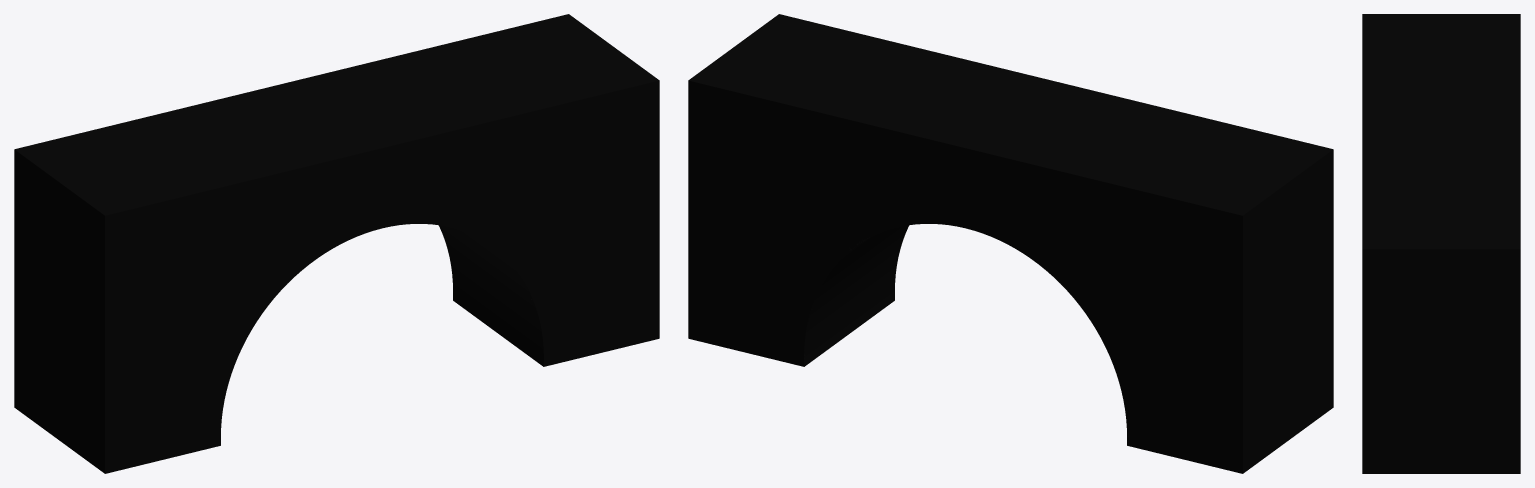
File: Arc2.fbx
The picture shows the model from 3 angles, left to right: view 1: azimuth 30°, elevation 25°; view 2: azimuth 150°, elevation 25°; view 3: azimuth 270°, elevation 25°; orthographic projection. The views are drawn at different scales.
Parts seen in each view (by area): view 1: node_id3; view 2: node_id3; view 3: node_id3.
Part boxes in pixels (left/top/right/bottom): node_id3: left=14, top=14, right=659, bottom=473; node_id3: left=688, top=14, right=1333, bottom=473; node_id3: left=1362, top=14, right=1520, bottom=473.
Bounding box in the file's own units: 0.512 × 0.2277 × 0.1453.
1 material, 1 textured.
